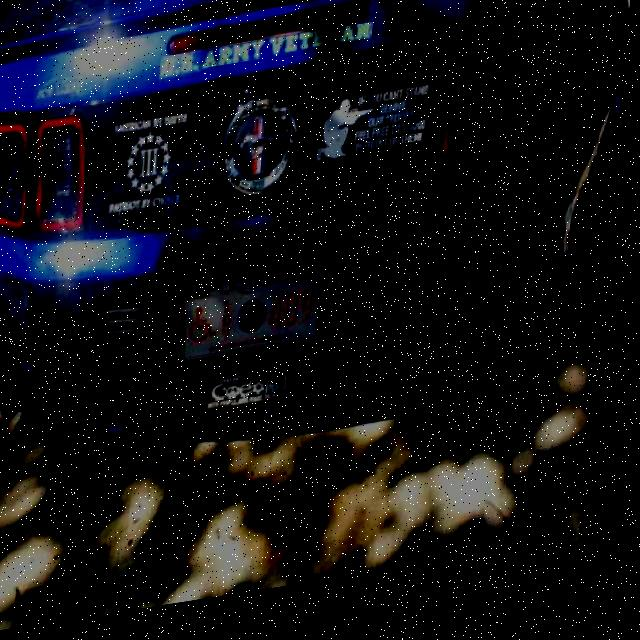license_plate: (185, 276, 332, 370)
